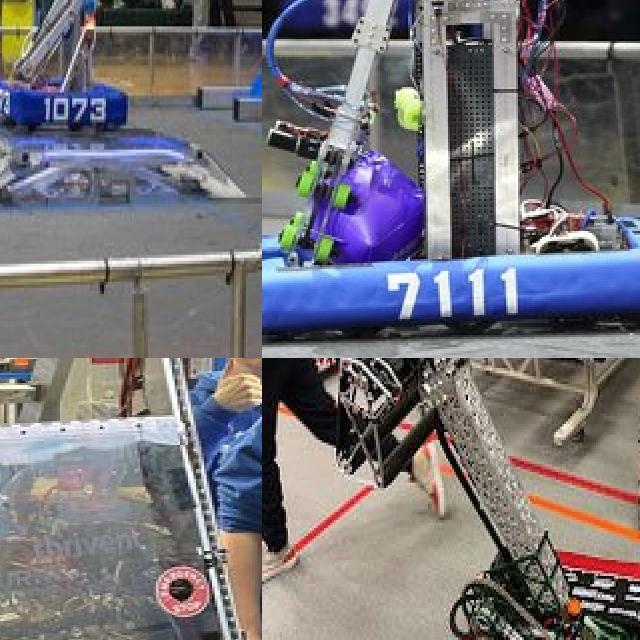FRC-Robots: (262, 0, 640, 319), (306, 358, 640, 640), (0, 358, 262, 640), (0, 0, 152, 171)
